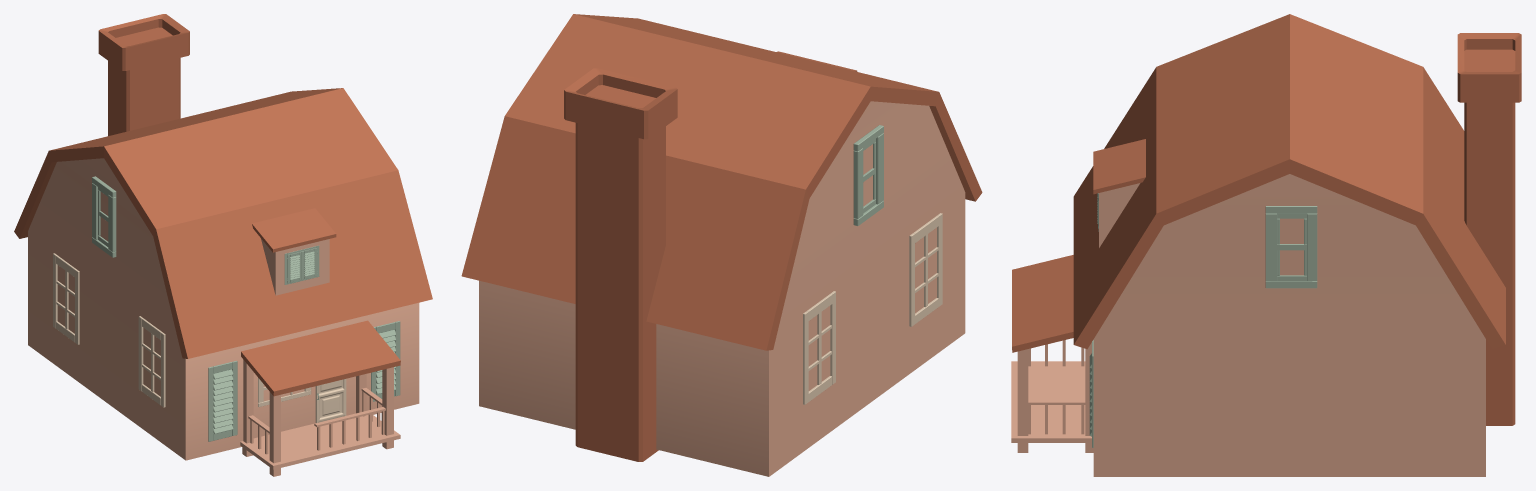
Rendered from barn2.fbx.
3 views of the same model, side by side, from view 1: azimuth 30°, elevation 25°; view 2: azimuth 150°, elevation 25°; view 3: azimuth 270°, elevation 25° (orthographic). The views are drawn at different scales.
Parts seen in each view (by area): view 1: polySurface62, polySurface63; view 2: polySurface62, polySurface63; view 3: polySurface63, polySurface62.
Part boxes in pixels (box(x1,y1,x2,y2)): polySurface62: box(14, 14, 432, 469); polySurface63: box(28, 158, 419, 476); polySurface62: box(461, 14, 982, 461); polySurface63: box(479, 101, 965, 476); polySurface63: box(1017, 174, 1485, 476); polySurface62: box(1011, 14, 1521, 442).
Bounding box in the file's own units: 24.49 × 27.86 × 35.48.
